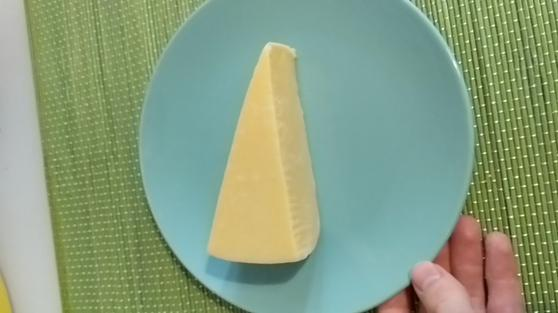cheese: (205, 42, 321, 264)
